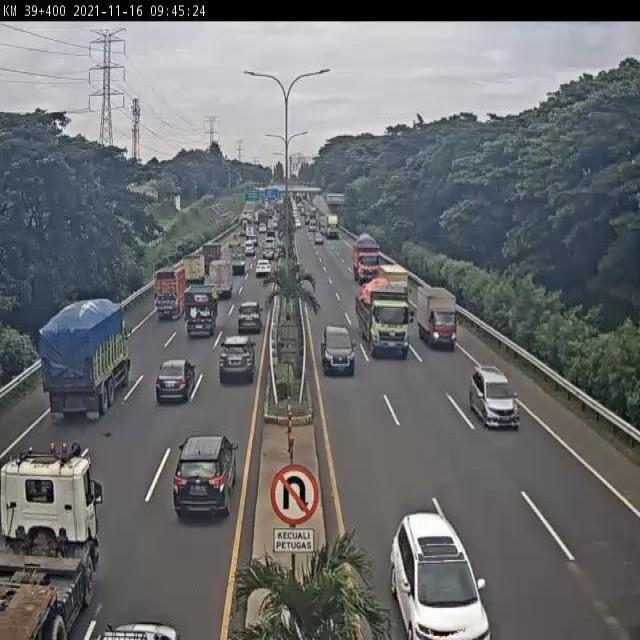car: (387, 506, 493, 640), (172, 432, 236, 523), (472, 360, 518, 431), (218, 335, 259, 385), (154, 355, 195, 401), (321, 324, 357, 373), (236, 300, 265, 335)
small truck: (415, 285, 457, 348)
truck-l-: (39, 299, 136, 417), (354, 280, 410, 356)
truck-m-: (152, 264, 187, 321), (183, 284, 217, 336)
truck-xl-: (2, 441, 103, 640)
